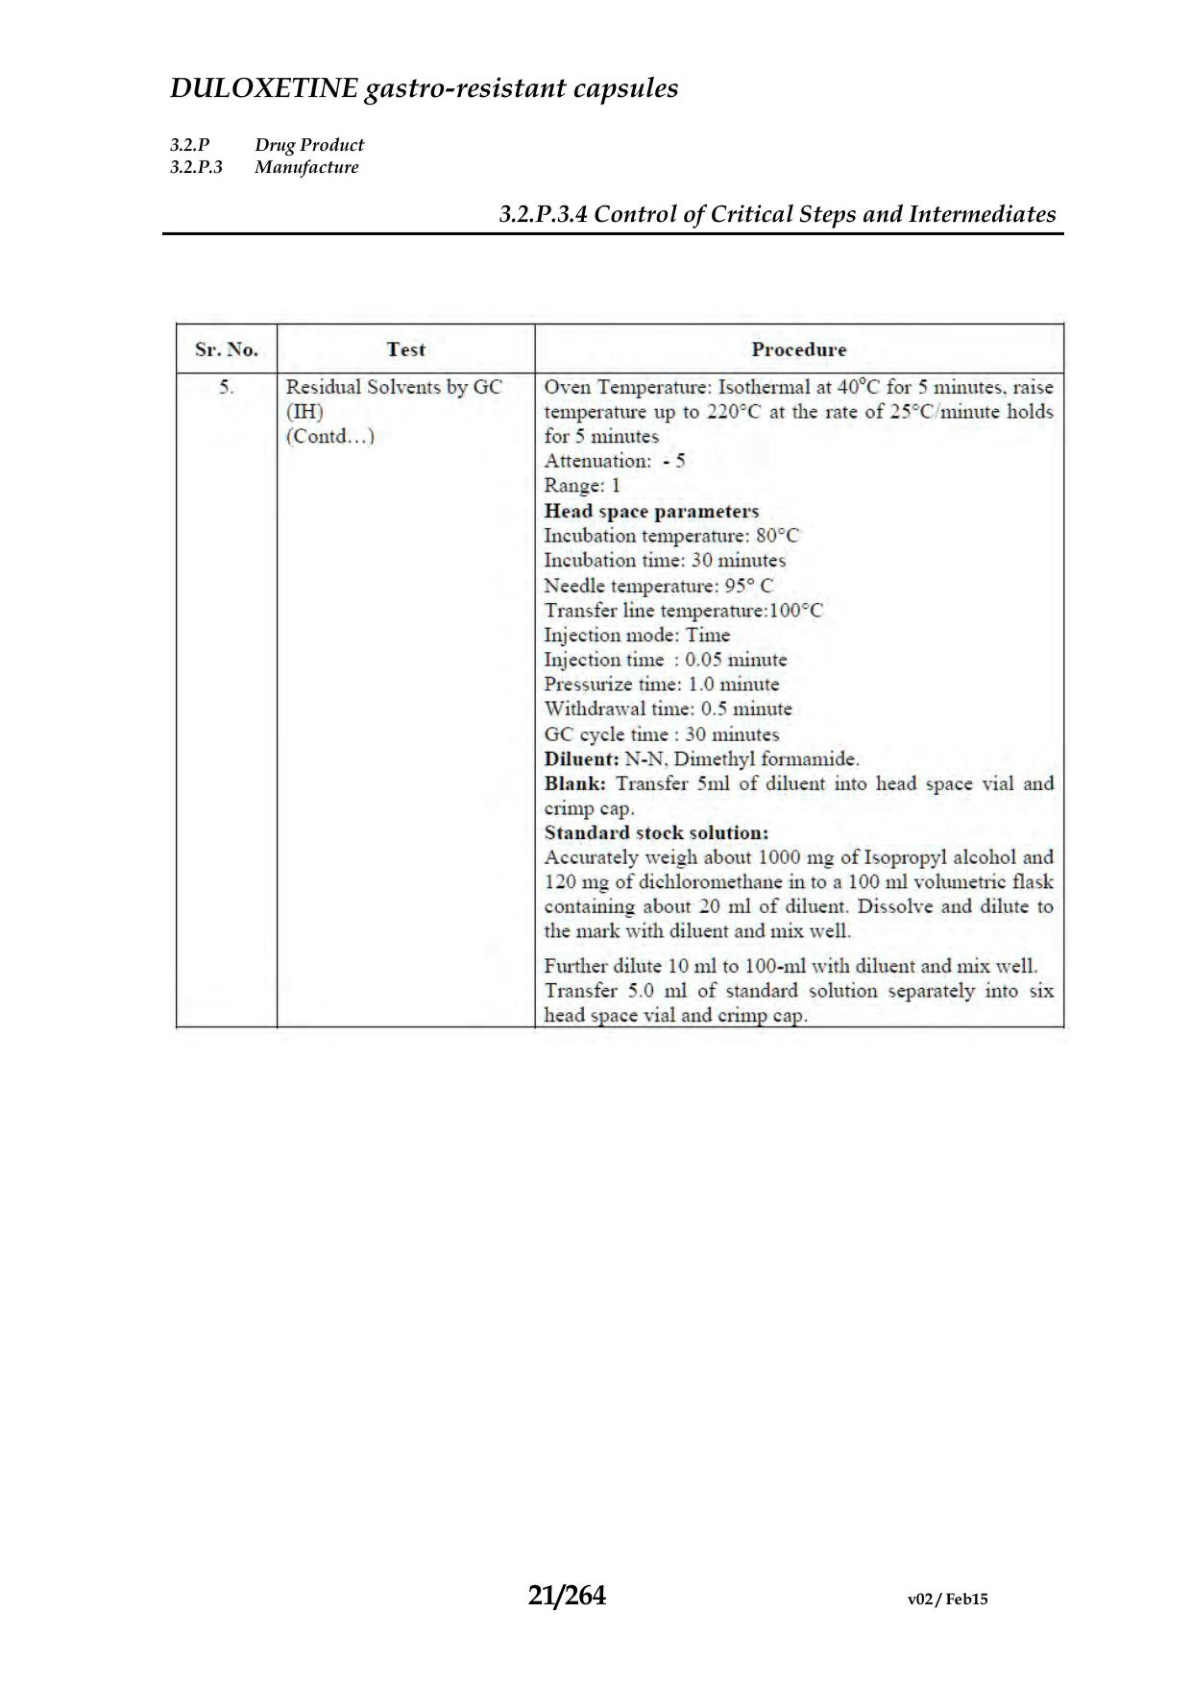full_lined: (174, 323, 1066, 1030)
